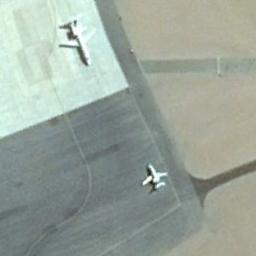Airplane: (54, 14, 98, 66), (142, 158, 172, 192)
